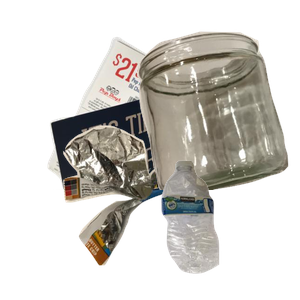glass: (135, 29, 300, 209)
paper: (45, 34, 230, 214)
plastic: (159, 158, 300, 300)
trash: (61, 123, 273, 300)
